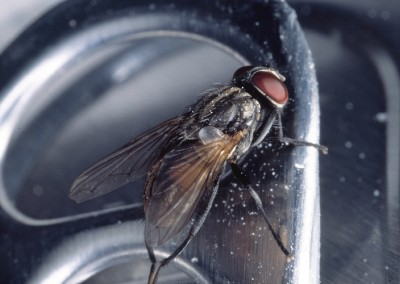house fly: (65, 62, 330, 284)
